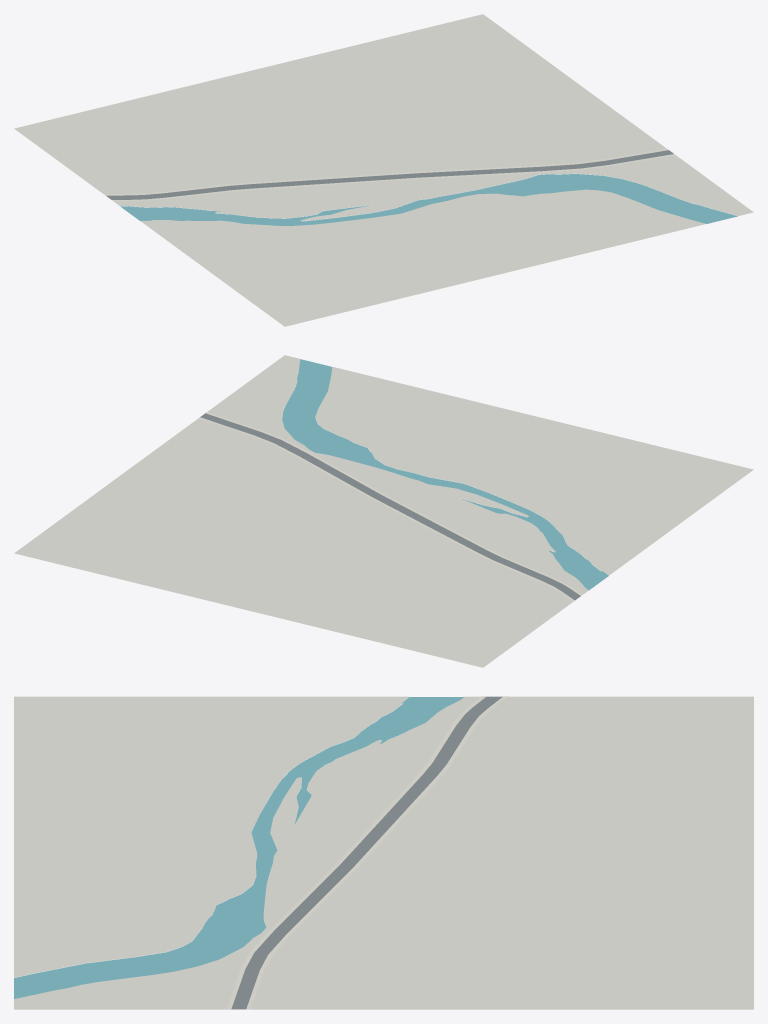
3 views of the same model, one above another, from view 1: azimuth 30°, elevation 25°; view 2: azimuth 150°, elevation 25°; view 3: azimuth 270°, elevation 25° (orthographic). The views are drawn at different scales.
Parts seen in each view (by area): view 1: city; view 2: city; view 3: city.
Part boxes in pixels (x1,y1,x2,y2): city: (14,14,753,326); city: (14,355,753,667); city: (14,696,753,1009).
Bounding box in the file's own units: 500 × 0.4 × 500.
